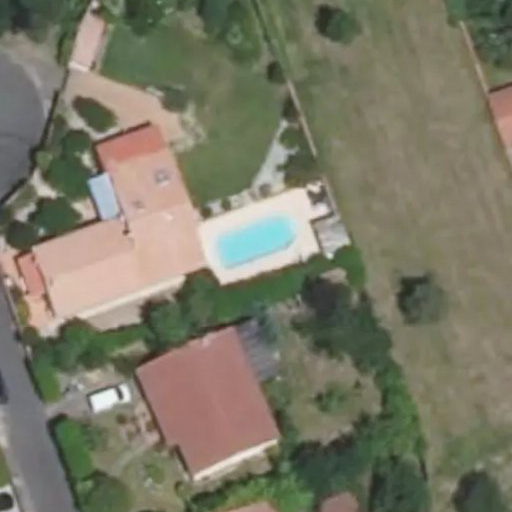pool: (213, 216, 299, 268)
